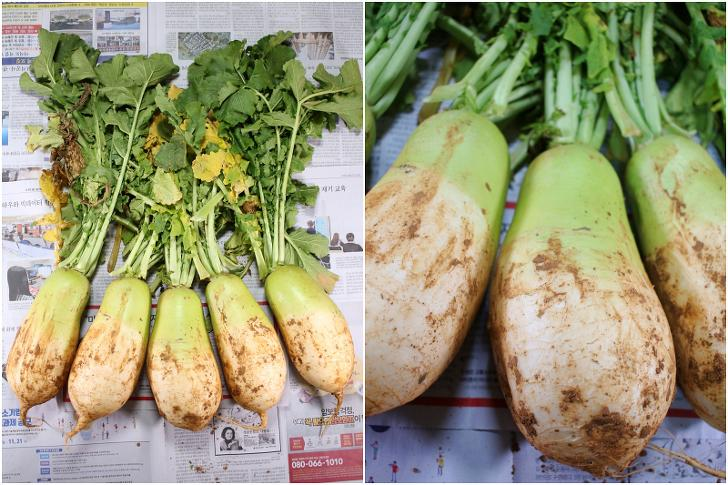radish: (416, 80, 587, 324), (568, 106, 728, 363), (668, 99, 728, 331), (75, 208, 183, 330), (220, 205, 331, 318), (305, 200, 403, 311), (9, 201, 101, 312), (167, 216, 249, 329)
